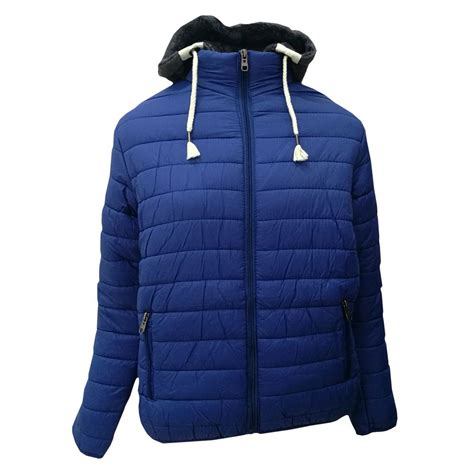nylon: (72, 15, 397, 459)
